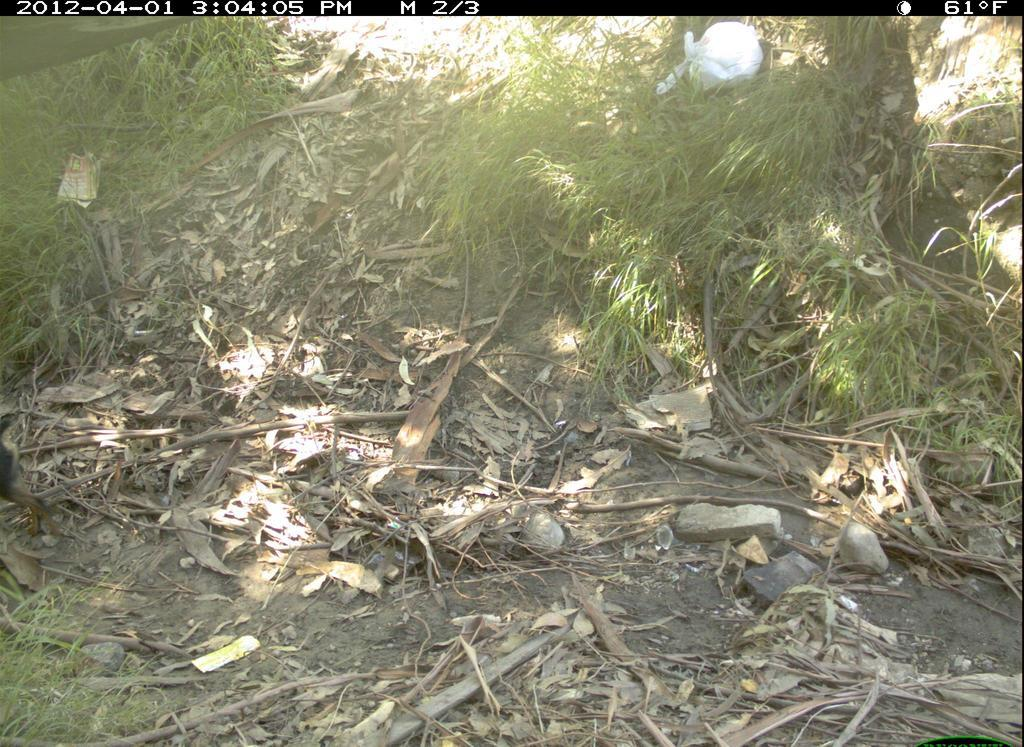dog: (1, 414, 75, 543)
